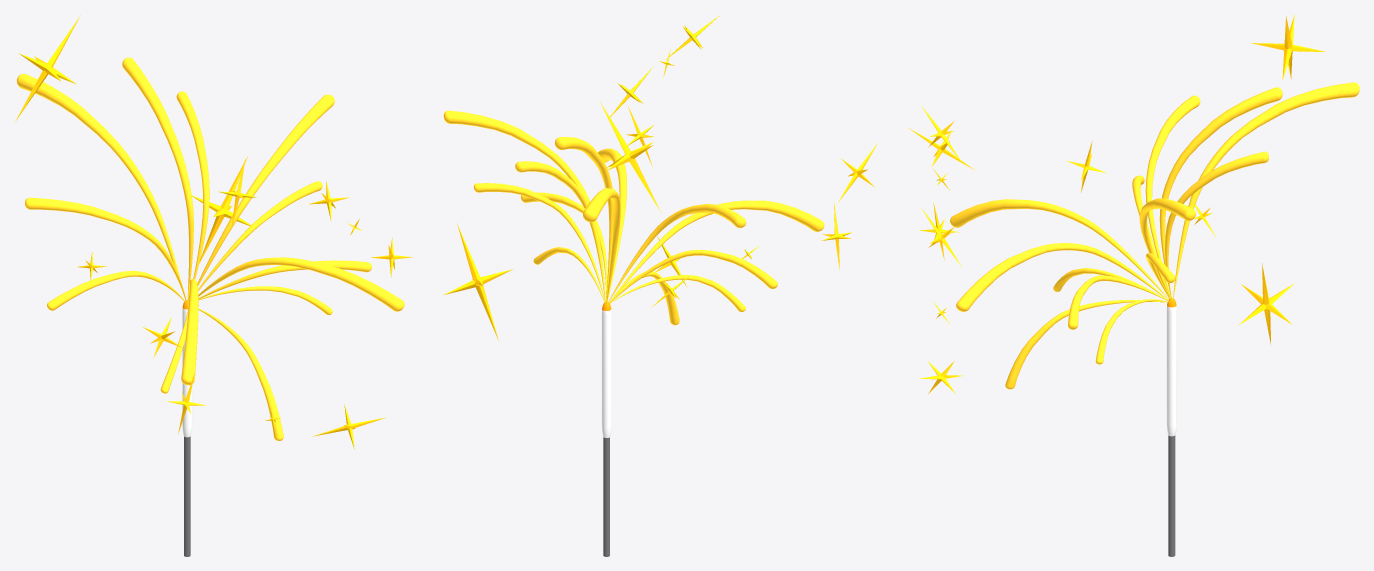
Rendered from sparkler.glb.
3 renders of one model, left to right at view 1: azimuth 30°, elevation 25°; view 2: azimuth 150°, elevation 25°; view 3: azimuth 270°, elevation 25°, orthographic.
Parts seen in each view (by area): view 1: Cylinder.464; view 2: Cylinder.464; view 3: Cylinder.464.
Boxes of the visible parts, bbox=[...] form: Cylinder.464: bbox=[15, 15, 412, 556]; Cylinder.464: bbox=[443, 15, 877, 556]; Cylinder.464: bbox=[908, 15, 1359, 556].
Bounding box in the file's own units: 1.54 × 2.42 × 1.92.
Materials: 1 (1 with a texture image).
